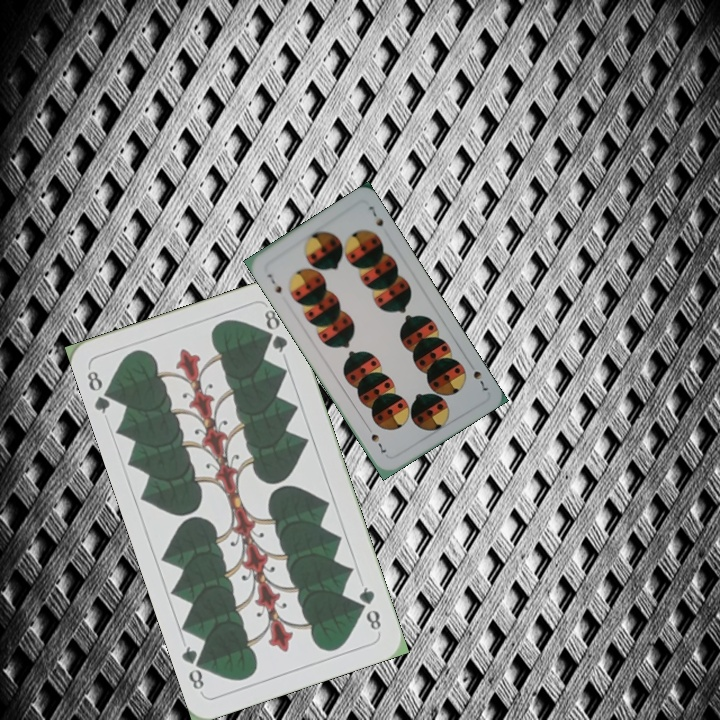G8: (82, 366, 119, 417), (354, 582, 384, 633)
S7: (465, 358, 491, 393), (263, 270, 284, 296)
